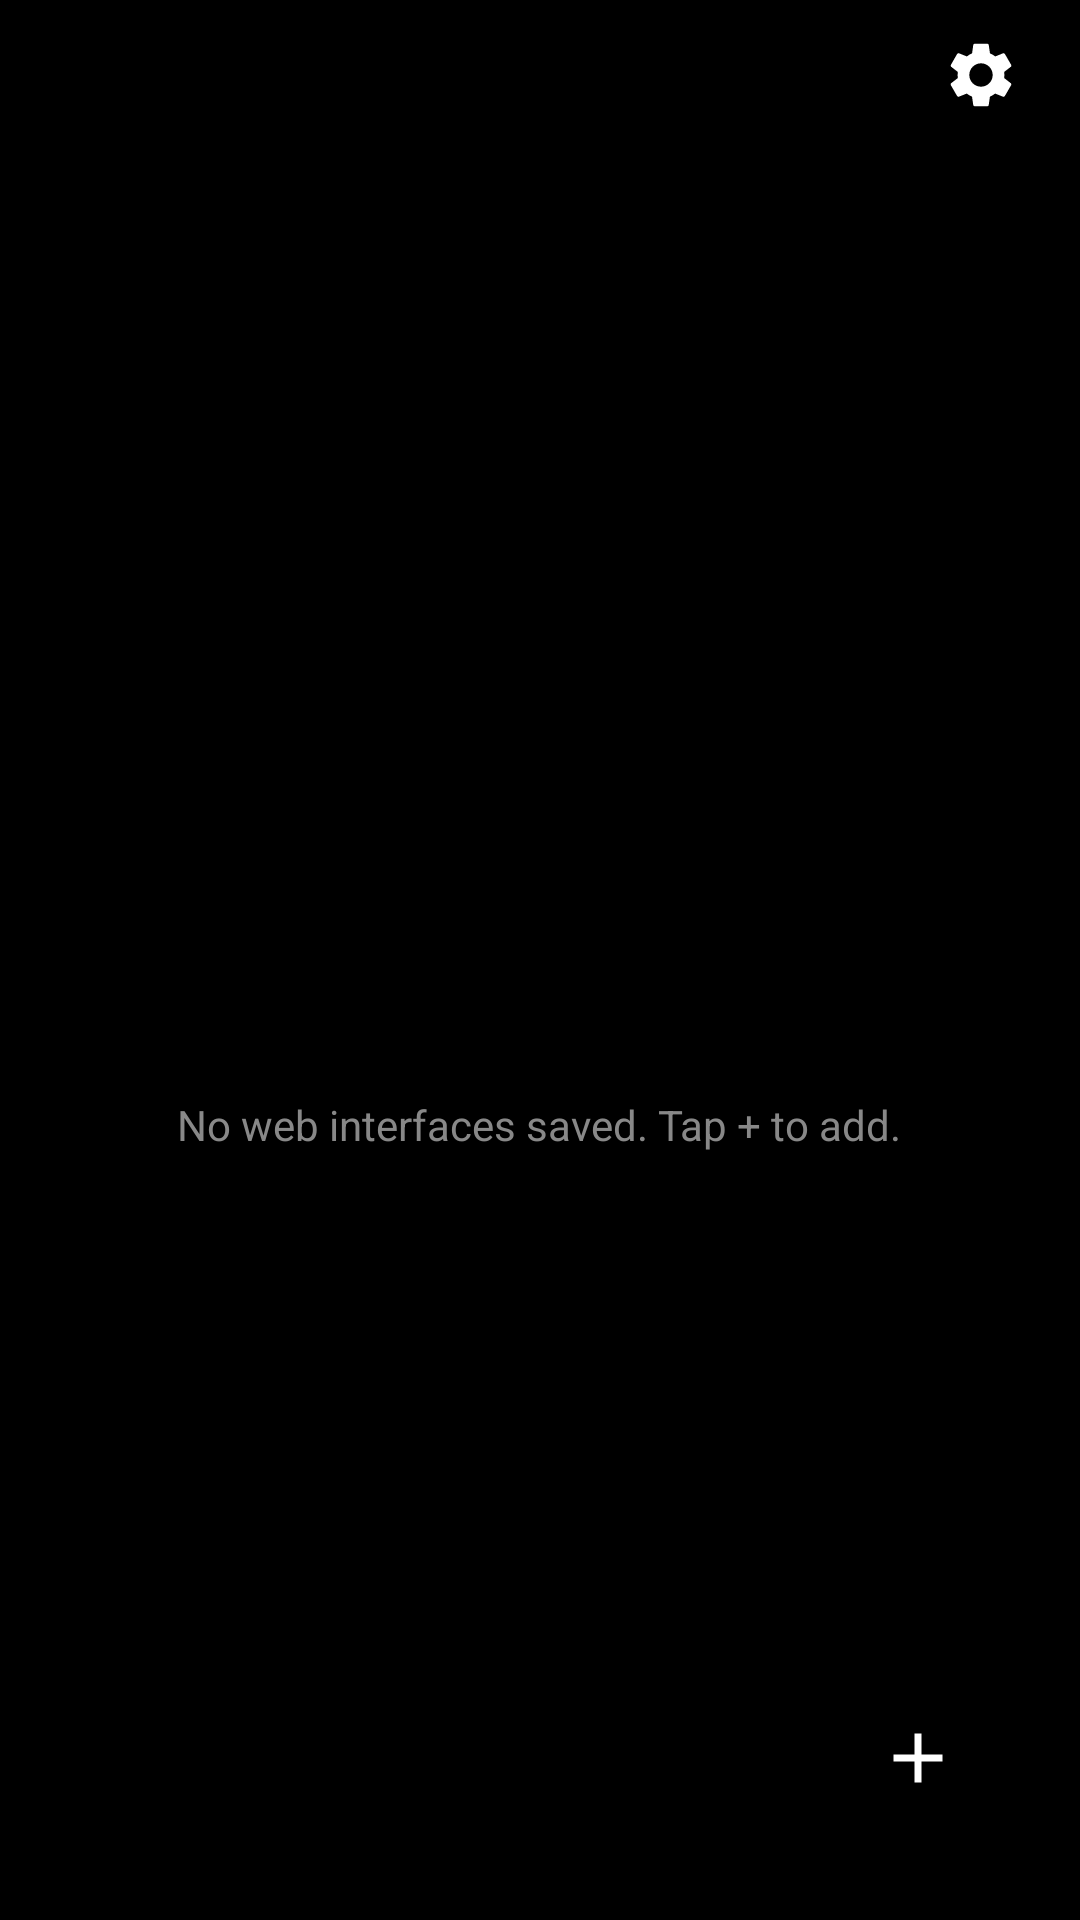

Screen size 1080 x 1920. Icon name, then its box in pixels as (x1, y1, x2, y2):
Add web interface: (893, 1733, 943, 1783)
Settings: (950, 43, 1012, 107)
